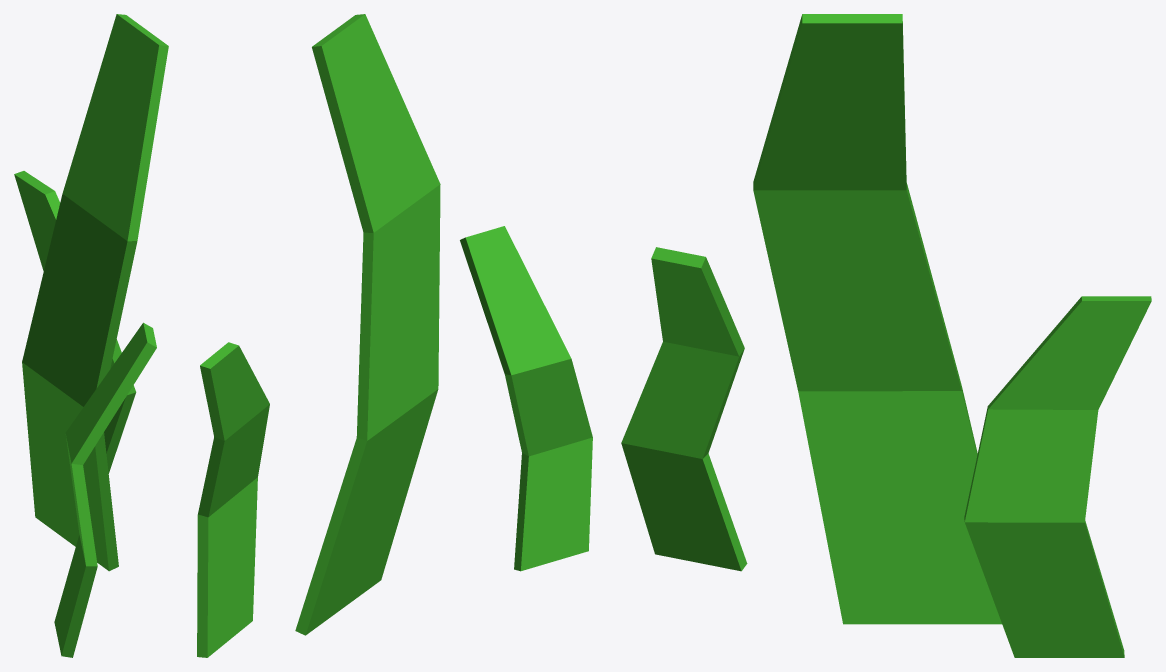
File: result.gltf
The picture shows the model from 3 angles, left to right: view 1: azimuth 30°, elevation 25°; view 2: azimuth 150°, elevation 25°; view 3: azimuth 270°, elevation 25°; orthographic projection. The views are drawn at different scales.
Parts seen in each view (by area): view 1: Grass_1; view 2: Grass_1; view 3: Grass_1.
Boxes of the visible parts, x1,y1,x2,y2 form: Grass_1: (14,14,168,657); Grass_1: (197,14,592,657); Grass_1: (621,14,1151,657).
Size of the model in its own units: 22.41 by 55.99 by 42.85.
